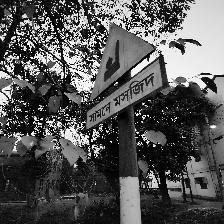Mosque in front: (84, 22, 168, 135)
